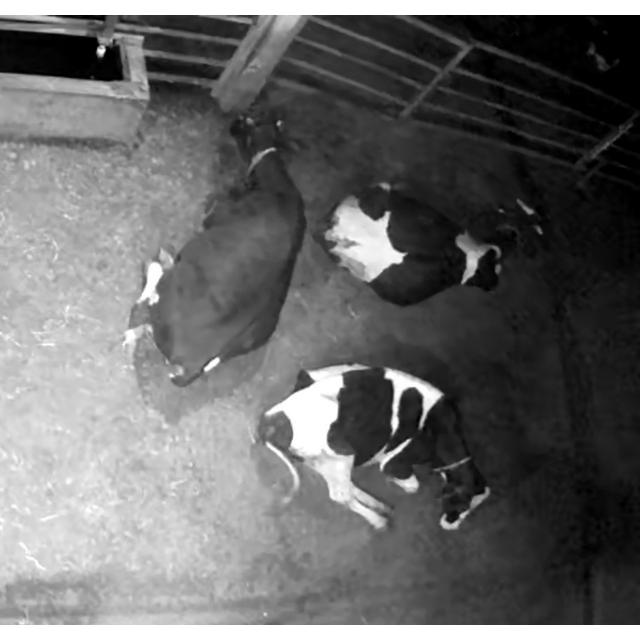lay: (116, 105, 308, 387), (260, 342, 522, 548), (322, 148, 556, 318)
